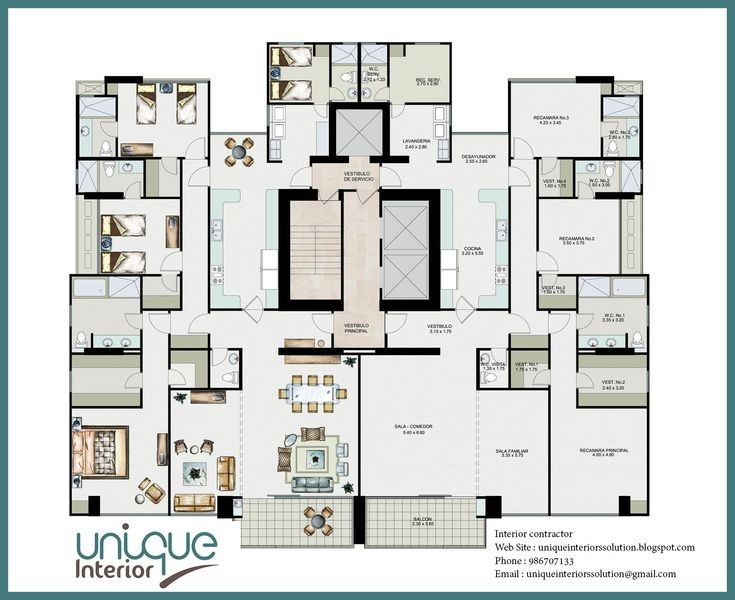door: (286, 168, 322, 194), (179, 134, 210, 164), (531, 246, 560, 273), (452, 294, 477, 324), (509, 166, 536, 193), (310, 313, 343, 334), (380, 164, 403, 194), (380, 313, 413, 333), (191, 309, 212, 340), (100, 119, 125, 142), (122, 312, 147, 334), (245, 298, 265, 325), (162, 247, 185, 270), (149, 311, 170, 336), (510, 139, 535, 159), (190, 165, 212, 187), (513, 314, 533, 338), (126, 374, 152, 392), (533, 369, 557, 385), (579, 176, 593, 201), (162, 158, 181, 176), (211, 348, 226, 368), (577, 375, 595, 391)
room: (164, 342, 354, 511), (361, 360, 546, 512), (58, 354, 177, 517), (550, 351, 650, 522), (513, 87, 641, 204), (75, 83, 209, 194), (69, 193, 210, 276), (439, 135, 506, 302), (220, 134, 285, 302), (73, 272, 206, 354), (537, 197, 643, 281), (541, 274, 647, 346), (375, 105, 451, 164), (391, 36, 450, 108), (269, 106, 329, 169), (273, 46, 330, 104), (336, 42, 388, 103)
wall: (280, 339, 436, 361), (272, 189, 297, 312), (640, 392, 659, 515), (354, 354, 370, 500), (539, 392, 558, 514), (427, 191, 445, 311), (62, 407, 81, 518), (378, 182, 443, 209), (202, 184, 216, 309), (163, 378, 174, 517), (562, 149, 633, 170), (558, 267, 651, 283), (71, 268, 163, 284), (473, 382, 554, 400), (580, 338, 645, 360), (281, 292, 346, 314), (504, 190, 515, 317), (68, 344, 147, 361), (378, 289, 436, 312), (577, 398, 650, 416), (503, 87, 520, 164), (201, 87, 219, 158), (339, 196, 350, 309), (327, 98, 396, 115), (305, 143, 348, 170), (322, 104, 342, 162), (68, 92, 84, 161), (440, 37, 459, 94), (74, 184, 128, 203), (532, 156, 542, 258), (558, 272, 649, 283), (538, 300, 579, 324), (574, 70, 618, 91), (81, 187, 130, 205), (370, 150, 410, 171), (634, 96, 648, 156), (101, 71, 145, 90), (69, 403, 144, 414), (598, 184, 646, 201), (468, 347, 485, 392), (171, 383, 244, 393), (355, 501, 370, 549), (270, 94, 317, 109), (176, 199, 189, 253), (538, 189, 577, 207), (167, 339, 210, 355), (356, 45, 368, 102), (572, 326, 585, 377), (505, 334, 517, 389), (173, 160, 187, 204), (381, 44, 396, 85), (170, 274, 187, 310), (210, 299, 244, 317), (400, 98, 451, 110), (145, 303, 185, 318), (138, 193, 184, 206), (479, 304, 516, 320), (63, 327, 77, 369), (570, 279, 587, 313), (327, 43, 339, 91), (643, 325, 656, 368), (306, 36, 344, 50), (133, 274, 145, 316), (205, 335, 214, 391), (161, 334, 175, 369), (535, 274, 547, 312), (545, 328, 557, 366), (138, 330, 149, 371), (64, 504, 98, 517), (263, 120, 273, 164), (140, 159, 152, 195), (237, 346, 247, 389), (595, 92, 608, 122), (510, 344, 549, 353), (95, 89, 118, 104), (614, 497, 632, 516), (111, 92, 123, 118), (66, 275, 76, 305), (87, 493, 100, 515), (64, 392, 77, 412), (112, 137, 124, 157), (574, 389, 586, 409), (598, 138, 608, 161), (476, 343, 495, 355), (268, 154, 284, 168), (140, 390, 150, 409), (440, 158, 458, 168)
window: (61, 368, 84, 394), (278, 37, 311, 54), (70, 165, 87, 194), (416, 33, 439, 52), (65, 304, 77, 325)
